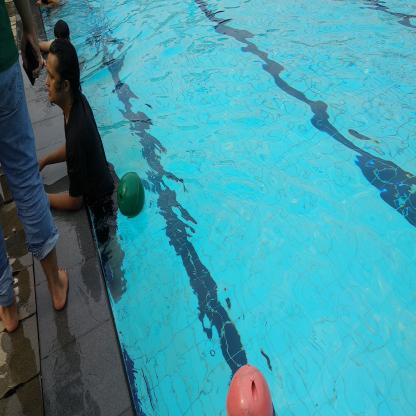green_buoy: (113, 167, 150, 223)
red_buoy: (219, 357, 280, 415)
